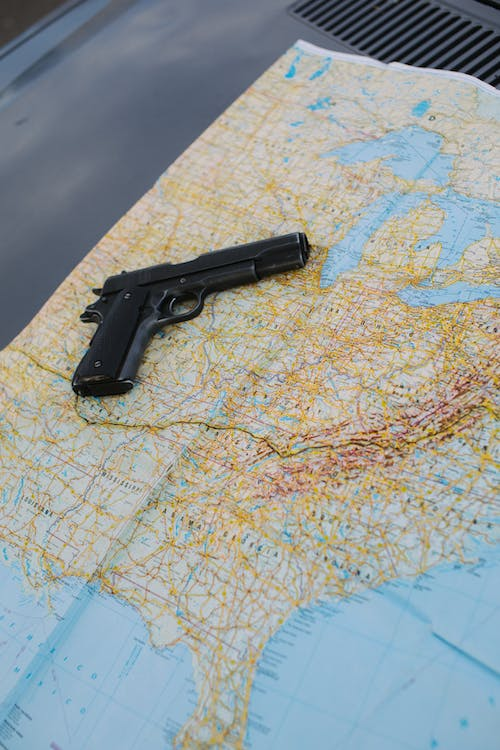gun: (68, 230, 311, 397)
